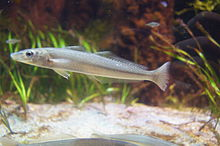kiss: (9, 41, 173, 93)
